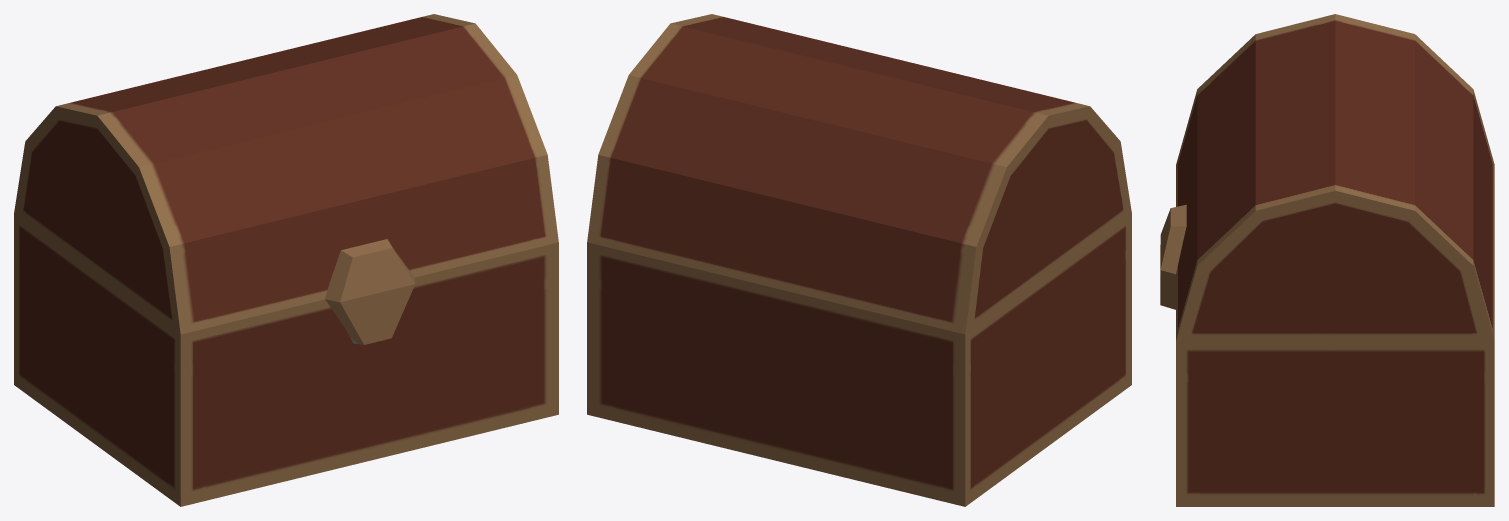
File: Asset_Item_ChestBig.fbx
3 renders of one model, left to right at view 1: azimuth 30°, elevation 25°; view 2: azimuth 150°, elevation 25°; view 3: azimuth 270°, elevation 25°, orthographic. The views are drawn at different scales.
Parts seen in each view (by area): view 1: lid, body; view 2: lid, body; view 3: lid, body.
Part boxes in pixels (x1,y1,x2,y2): lid: (14, 14, 558, 334); body: (14, 213, 558, 506); lid: (587, 14, 1131, 334); body: (587, 213, 1131, 506); lid: (1160, 14, 1494, 341); body: (1160, 245, 1494, 506).
Bounding box in the file's own units: 40.67 × 33.94 × 32.55.
